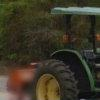Tractor: (25, 9, 100, 100)
